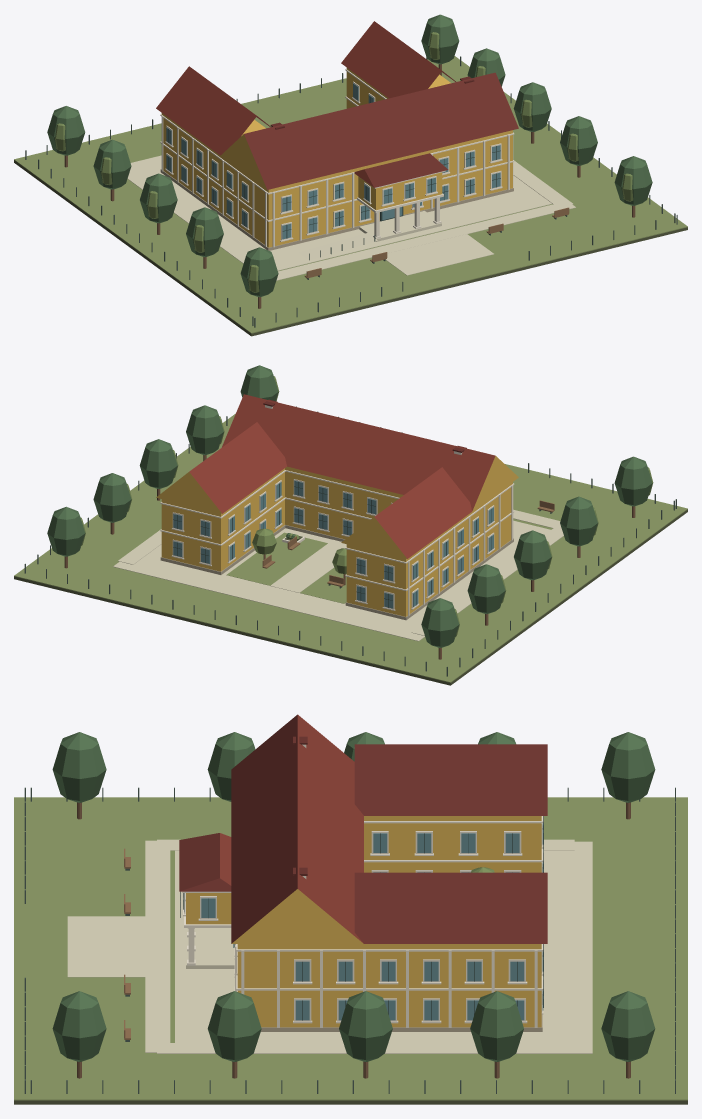
File: malakhovka_concept.obj
The picture shows the model from 3 angles, top to bottom: view 1: azimuth 30°, elevation 25°; view 2: azimuth 150°, elevation 25°; view 3: azimuth 270°, elevation 25°; orthographic projection. The views are drawn at different scales.
Parts seen in each view (by area): view 1: level_0_landscape_lawn, level_4_roof_main_roof, level_0_landscape_tree_crown, level_0_landscape_perimeter_paving, level_2_shell_floor_2_mass, level_1_shell_floor_1_mass, level_4_roof_west_roof, level_0_landscape_walk, level_4_roof_east_roof, level_0_landscape_arrival, level_0_landscape_conditional_plot_3390m2, level_2_detail_window_glass (+18 smaller); view 2: level_0_landscape_lawn, level_0_landscape_tree_crown, level_4_roof_main_roof, level_2_shell_floor_2_mass, level_0_landscape_perimeter_paving, level_1_shell_floor_1_mass, level_4_roof_west_roof, level_4_roof_east_roof, level_0_landscape_courtyard_lawn, level_0_landscape_conditional_plot_3390m2, level_2_detail_window_glass, level_0_landscape_walk (+12 smaller); view 3: level_0_landscape_lawn, level_4_roof_main_roof, level_0_landscape_tree_crown, level_0_landscape_perimeter_paving, level_4_roof_east_roof, level_4_roof_west_roof, level_2_shell_floor_2_mass, level_0_landscape_walk, level_1_shell_floor_1_mass, level_0_landscape_arrival, level_2_detail_window_glass, level_0_landscape_conditional_plot_3390m2 (+15 smaller).
Boxes of the visible parts, x1,y1,x2,y2 form: level_0_landscape_lawn: (14, 56, 687, 333); level_4_roof_main_roof: (220, 72, 518, 189); level_0_landscape_tree_crown: (47, 14, 652, 297); level_0_landscape_perimeter_paving: (130, 155, 552, 270); level_2_shell_floor_2_mass: (163, 71, 512, 220); level_1_shell_floor_1_mass: (163, 99, 512, 247); level_4_roof_west_roof: (156, 66, 271, 155); level_0_landscape_walk: (127, 160, 575, 280); level_4_roof_east_roof: (341, 21, 455, 98); level_0_landscape_arrival: (385, 234, 493, 275); level_0_landscape_conditional_plot_3390m2: (14, 160, 687, 336); level_2_detail_window_glass: (166, 83, 500, 211); level_0_landscape_lawn: (14, 413, 687, 682); level_0_landscape_tree_crown: (47, 365, 653, 647); level_4_roof_main_roof: (222, 394, 518, 511); level_2_shell_floor_2_mass: (161, 471, 511, 589); level_0_landscape_perimeter_paving: (113, 520, 550, 641); level_1_shell_floor_1_mass: (161, 499, 511, 616); level_4_roof_west_roof: (341, 467, 471, 558); level_4_roof_east_roof: (156, 422, 286, 513); level_0_landscape_courtyard_lawn: (226, 532, 346, 603); level_0_landscape_conditional_plot_3390m2: (14, 509, 687, 685); level_2_detail_window_glass: (173, 480, 493, 580); level_0_landscape_walk: (118, 509, 563, 635); level_0_landscape_lawn: (14, 797, 687, 1100); level_4_roof_main_roof: (231, 714, 363, 943); level_0_landscape_tree_crown: (52, 732, 655, 1061); level_0_landscape_perimeter_paving: (175, 841, 592, 1053); level_4_roof_east_roof: (354, 872, 547, 943); level_4_roof_west_roof: (354, 744, 547, 815); level_2_shell_floor_2_mass: (237, 823, 541, 988); level_0_landscape_walk: (145, 839, 574, 1053); level_1_shell_floor_1_mass: (237, 862, 541, 1027); level_0_landscape_arrival: (67, 916, 145, 977); level_2_detail_window_glass: (184, 823, 543, 981); level_0_landscape_conditional_plot_3390m2: (14, 1100, 687, 1104).
Size of the model in its own units: 60 by 14.04 by 56.5.
